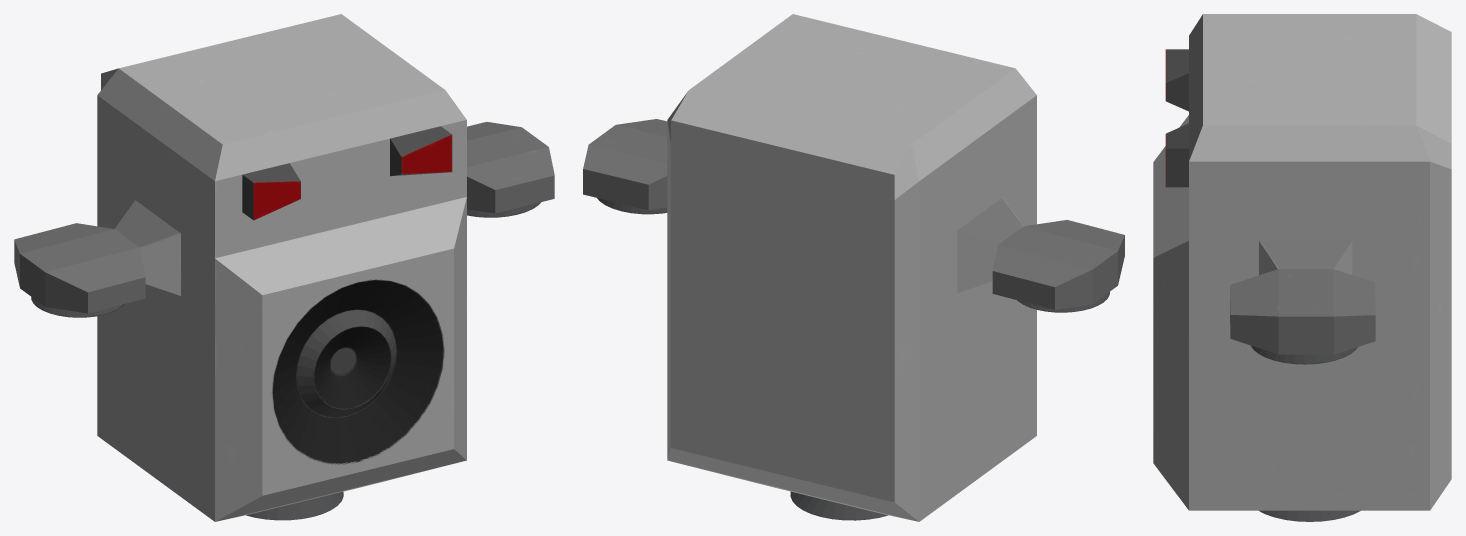
File: speakerbot_v4.fbx
3 renders of one model, left to right at view 1: azimuth 30°, elevation 25°; view 2: azimuth 150°, elevation 25°; view 3: azimuth 270°, elevation 25°, orthographic. The views are drawn at different scales.
Visible parts, largest first — view 1: Cube; view 2: Cube; view 3: Cube.
Boxes of the visible parts, x1,y1,x2,y2 form: Cube: [14, 14, 554, 521]; Cube: [583, 14, 1124, 521]; Cube: [1153, 14, 1451, 521].
Size of the model in its own units: 160 by 126 by 80.
